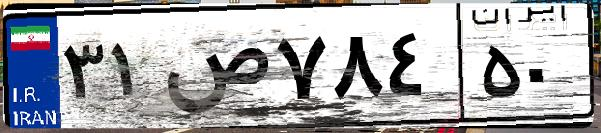0: (525, 38, 570, 115)
1: (110, 28, 158, 98)
3: (57, 26, 110, 100)
4: (385, 28, 445, 110)
5: (475, 38, 525, 113)
7: (270, 28, 330, 110)
8: (330, 28, 385, 110)
ص: (158, 20, 270, 120)
